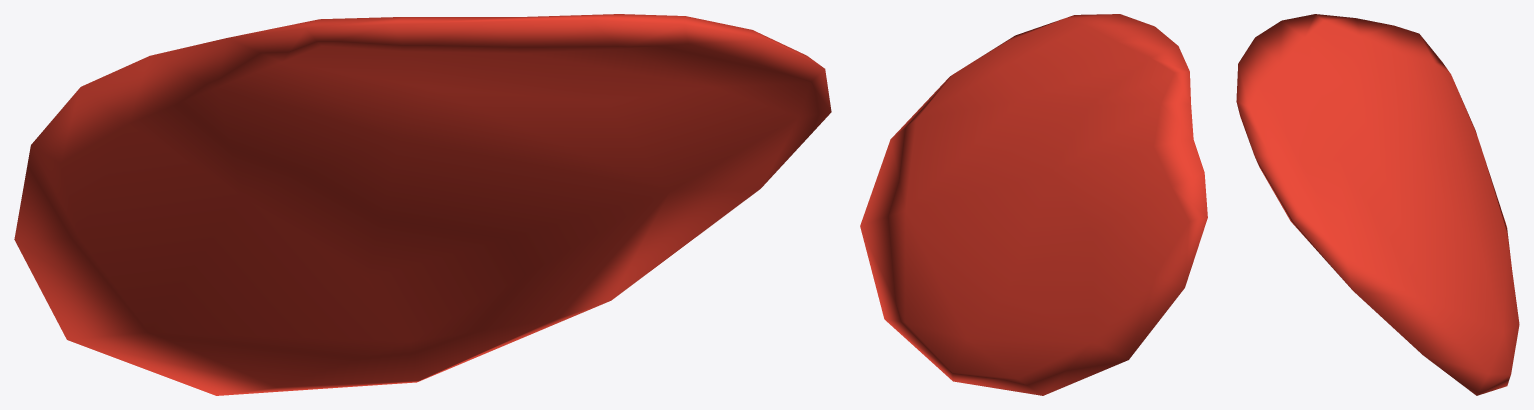
File: Rectus_anterior_capitis_muscle-Occipital_insertion.r_Generated_.glb
The picture shows the model from 3 angles, left to right: view 1: azimuth 30°, elevation 25°; view 2: azimuth 150°, elevation 25°; view 3: azimuth 270°, elevation 25°; orthographic projection. The views are drawn at different scales.
Parts seen in each view (by area): view 1: Rectus_anterior_capitis_muscle-Occipital_insertion.r_Generat; view 2: Rectus_anterior_capitis_muscle-Occipital_insertion.r_Generat; view 3: Rectus_anterior_capitis_muscle-Occipital_insertion.r_Generat.
Part boxes in pixels (box(x1,y1,x2,y2)): Rectus_anterior_capitis_muscle-Occipital_insertion.r_Generat: box(14, 14, 831, 395); Rectus_anterior_capitis_muscle-Occipital_insertion.r_Generat: box(860, 14, 1207, 395); Rectus_anterior_capitis_muscle-Occipital_insertion.r_Generat: box(1236, 14, 1519, 395).
Bounding box in the file's own units: 0.00721 × 0.00552 × 0.00463.
